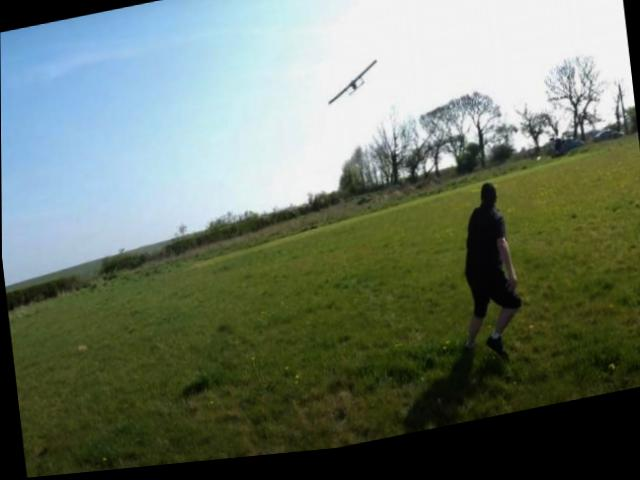iha: (325, 68, 379, 110)
